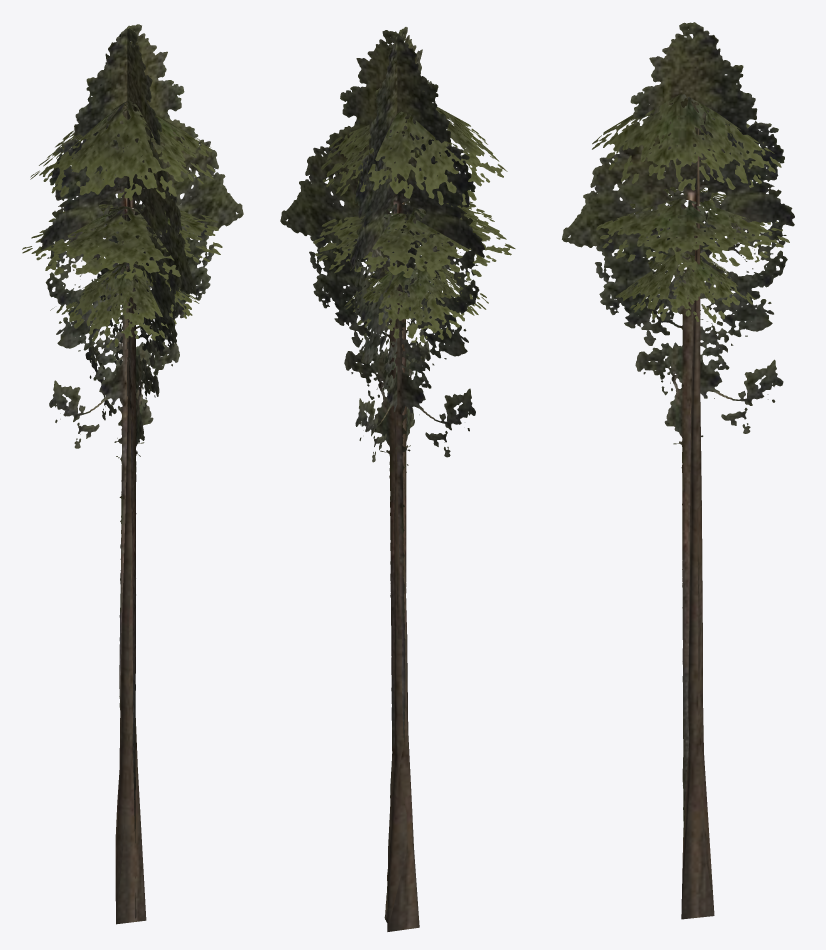
File: Background_Tree_Atlas_005_alt.glb
3 views of the same model, side by side, from view 1: azimuth 30°, elevation 25°; view 2: azimuth 150°, elevation 25°; view 3: azimuth 270°, elevation 25° (orthographic).
Visible parts, largest first — view 1: Background_Tree_Atlas.005; view 2: Background_Tree_Atlas.005; view 3: Background_Tree_Atlas.005.
Boxes of the visible parts, left/top/right/bottom form: Background_Tree_Atlas.005: left=22, top=24, right=243, bottom=924; Background_Tree_Atlas.005: left=280, top=27, right=515, bottom=931; Background_Tree_Atlas.005: left=562, top=22, right=794, bottom=919.
Size of the model in its own units: 886 by 3327 by 855.
1 material, 1 textured.
